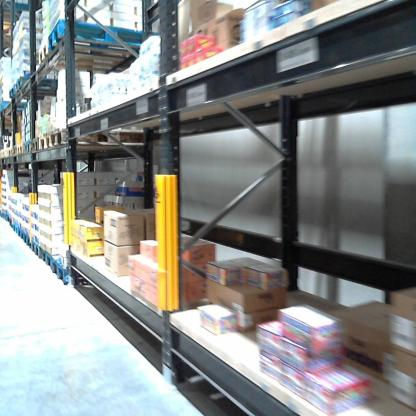pallet: (35, 43, 153, 77), (46, 27, 151, 64), (49, 123, 159, 153), (49, 255, 150, 287), (7, 83, 64, 100), (15, 75, 60, 89), (37, 129, 52, 153), (40, 242, 52, 270), (25, 135, 37, 157), (22, 230, 32, 256), (31, 235, 40, 261), (17, 140, 28, 159), (16, 229, 24, 247), (10, 147, 19, 162), (32, 134, 37, 153)
